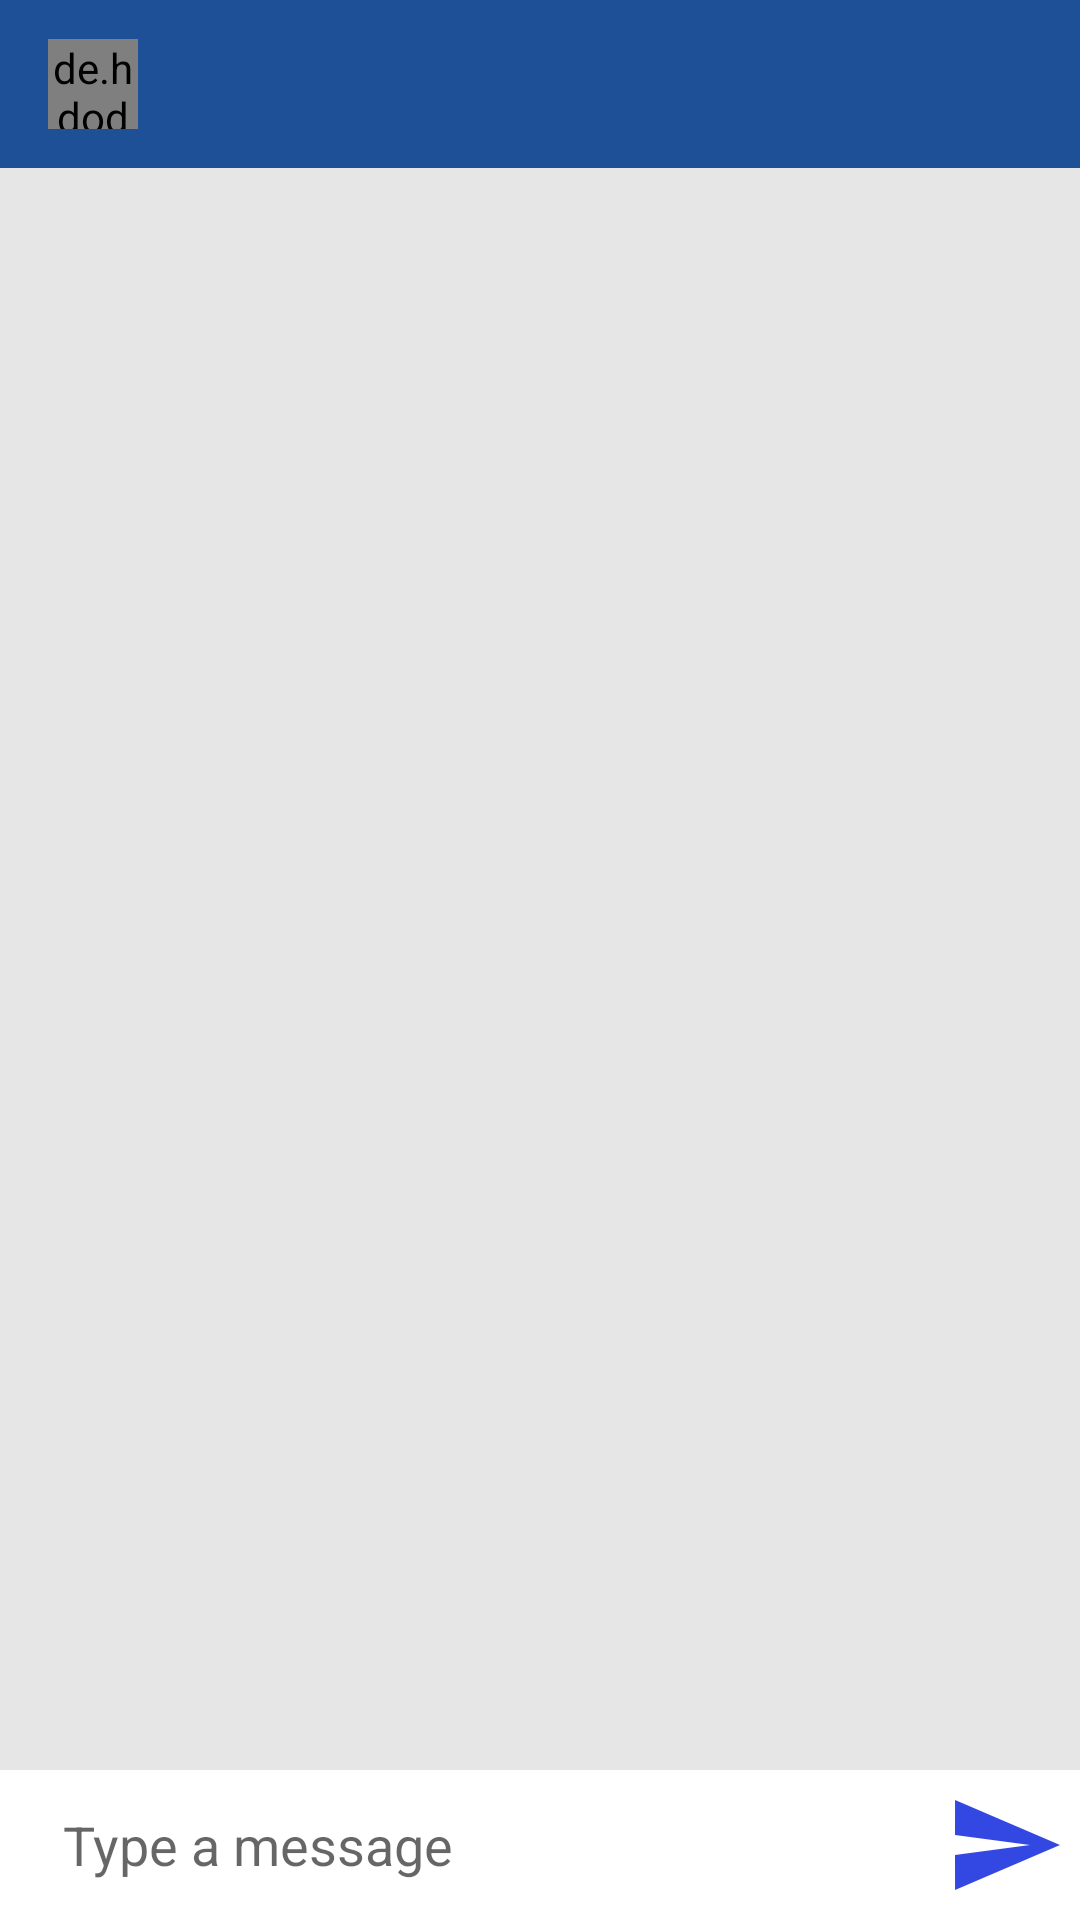

Icon bounding boxes for this 1080x1920 phone screenshot, format region(x1, y1, x2, y2):
send: region(955, 1800, 1060, 1890)
